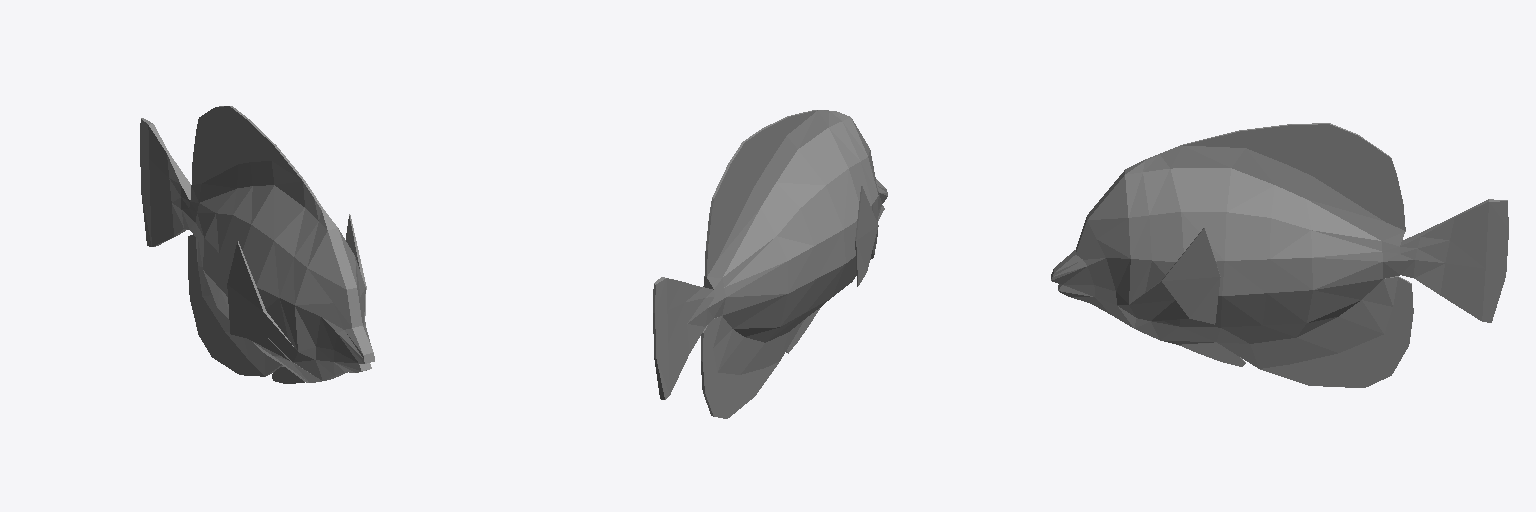
Rendered from TropicalFish01.obj.
The picture shows the model from 3 angles: view 1: azimuth 30°, elevation 25°; view 2: azimuth 150°, elevation 25°; view 3: azimuth 270°, elevation 25°; orthographic projection.
Visible parts, largest first — view 1: TropicalFish01; view 2: TropicalFish01; view 3: TropicalFish01.
Part boxes in pixels (left/top/right/bottom): TropicalFish01: left=140, top=106, right=374, bottom=383; TropicalFish01: left=653, top=110, right=887, bottom=418; TropicalFish01: left=1051, top=123, right=1508, bottom=387.
Size of the model in its own units: 3.67 by 7.92 by 12.45.